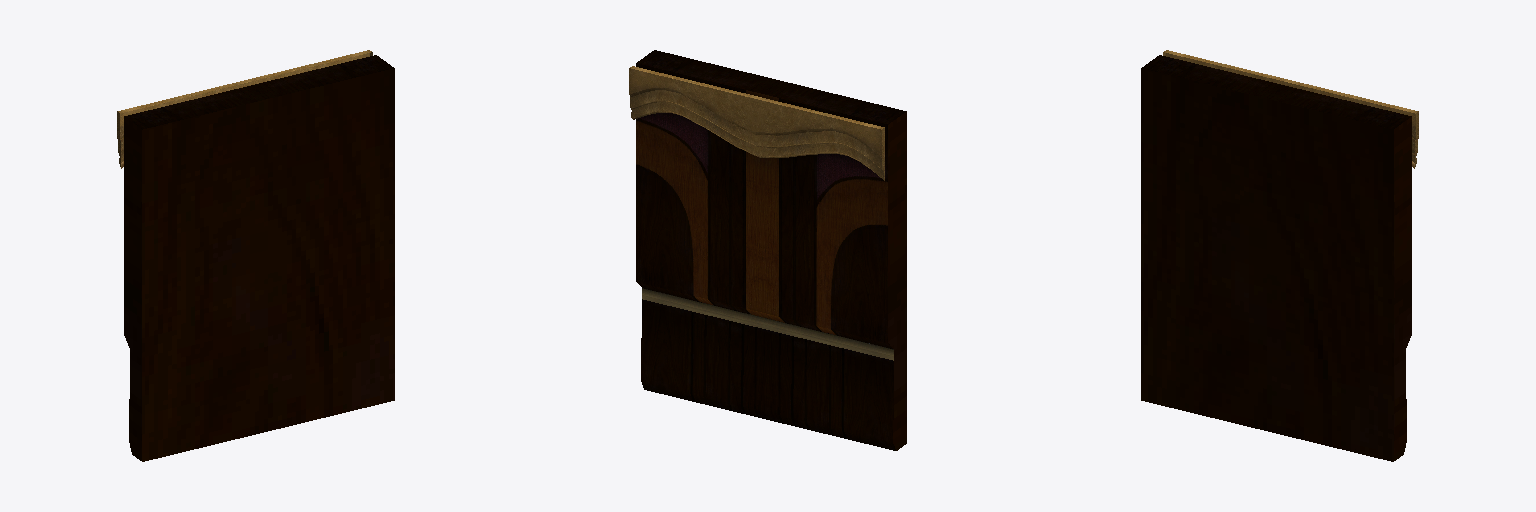
3 renders of one model, left to right at view 1: azimuth 30°, elevation 25°; view 2: azimuth 150°, elevation 25°; view 3: azimuth 330°, elevation 25°, orthographic.
Parts seen in each view (by area): view 1: EDU_Restaurant_barTop256; view 2: EDU_Restaurant_barTop256; view 3: EDU_Restaurant_barTop256.
Part boxes in pixels (bbox=[...]): EDU_Restaurant_barTop256: bbox=[117, 50, 394, 461]; EDU_Restaurant_barTop256: bbox=[629, 50, 906, 450]; EDU_Restaurant_barTop256: bbox=[1141, 50, 1418, 461].
Bounding box in the file's own units: 256 × 323 × 44.12.
Materials: 1 (1 with a texture image).